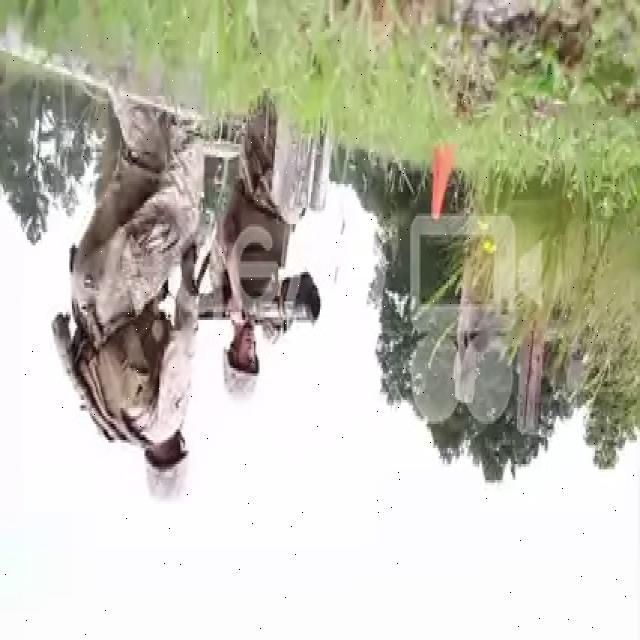bazooka: (196, 266, 325, 353)
